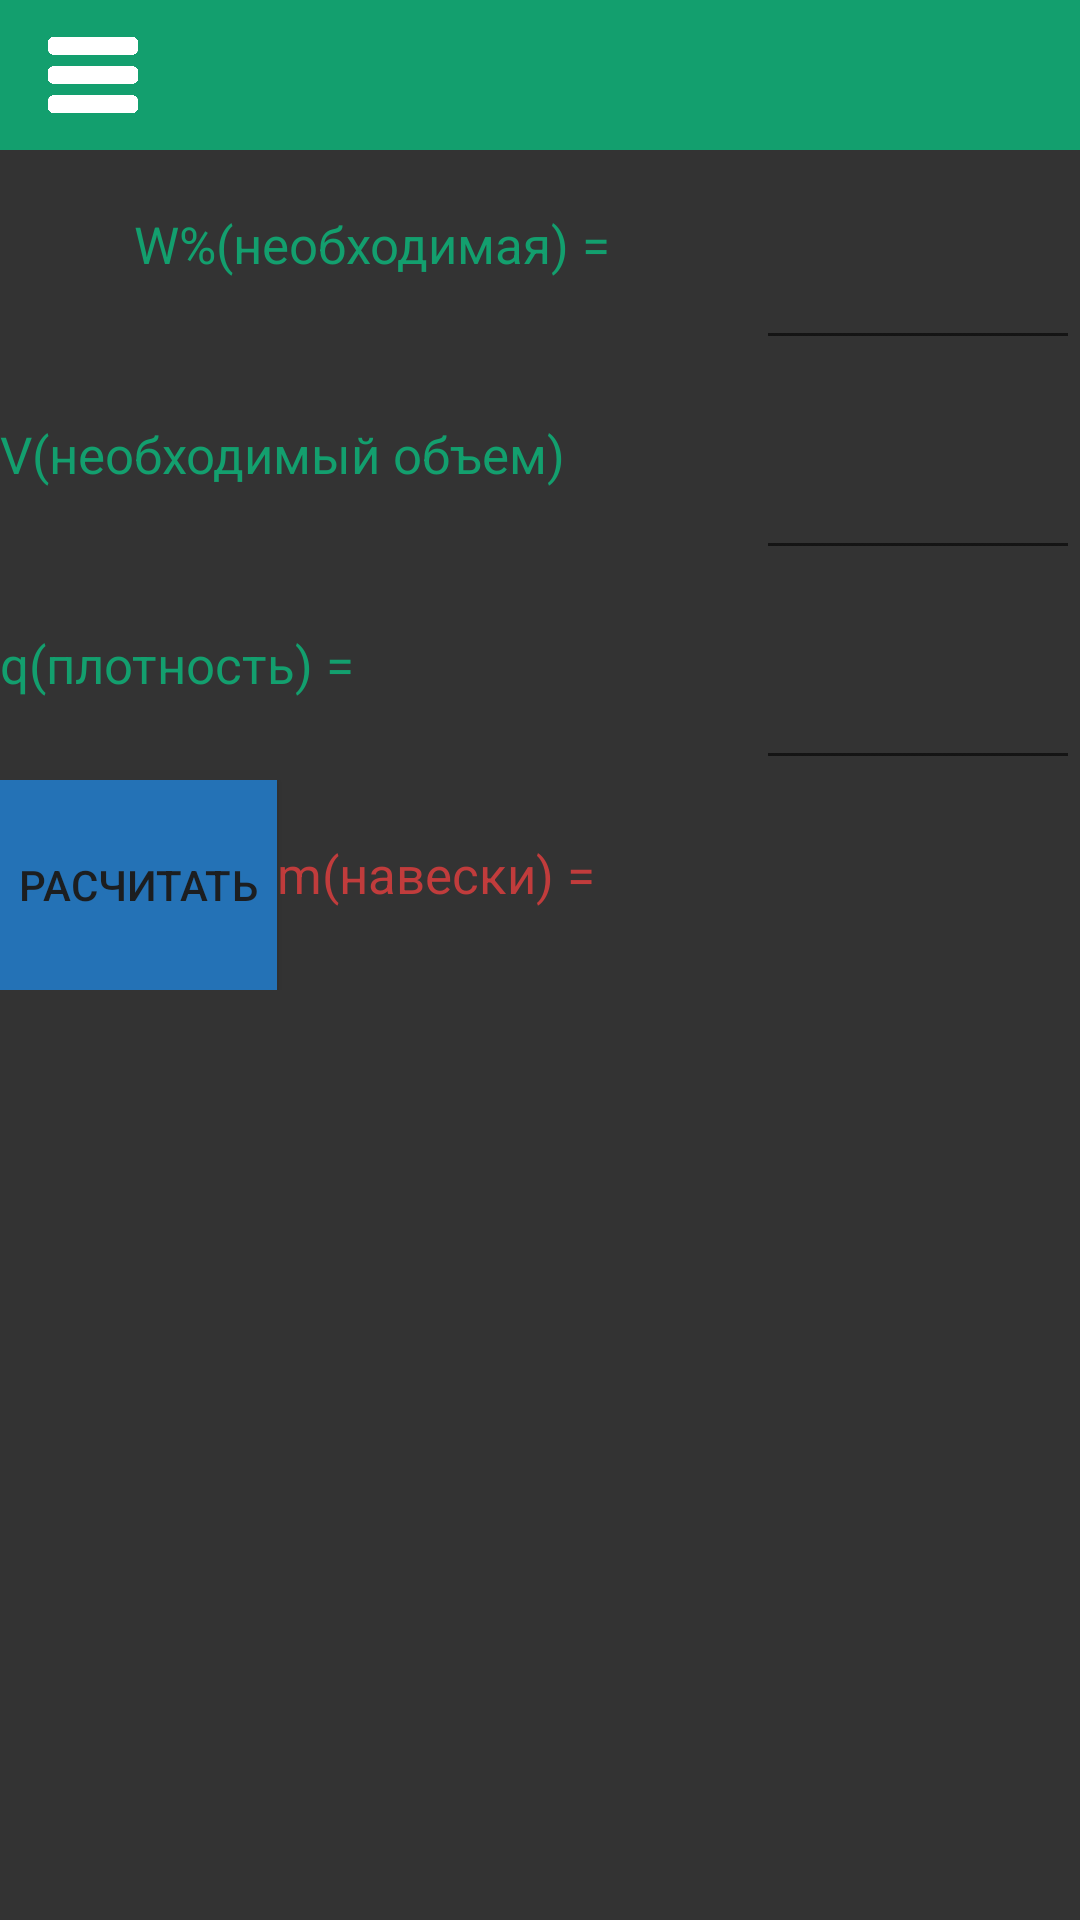

Icon click points for this 1080 × 1920 phone screenshot, format (x=x, y=y):
three stick: (x=93, y=75)
